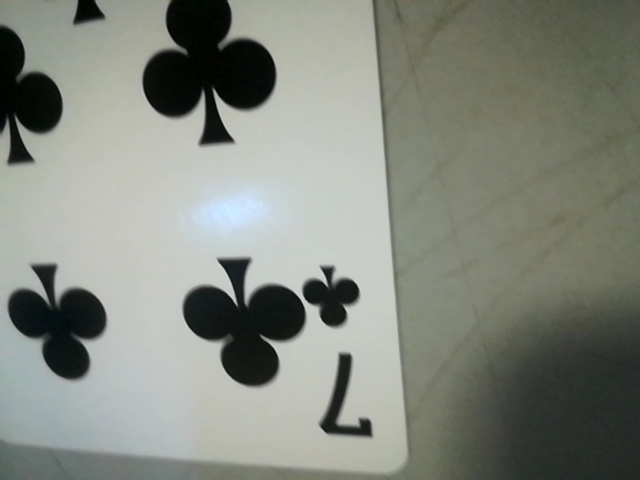mh 7: (297, 251, 393, 458)
